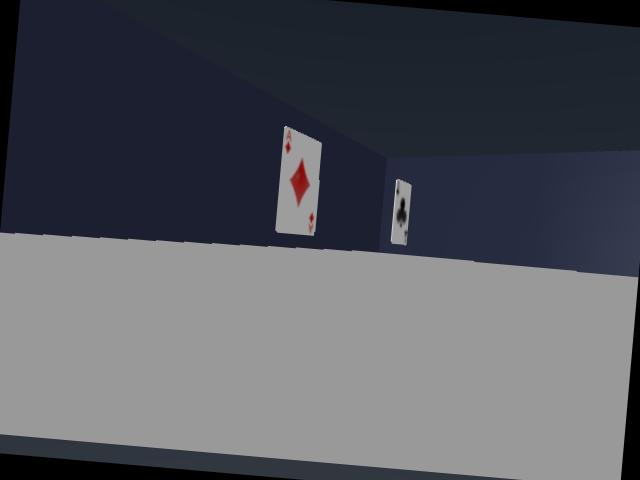club: (391, 179, 411, 245)
diamond: (275, 127, 321, 235)
